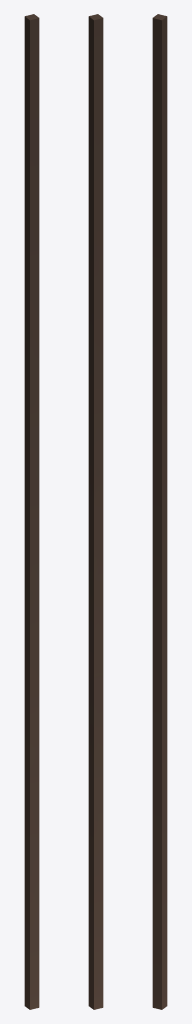
File: Kolonna.fbx
3 renders of one model, left to right at view 1: azimuth 30°, elevation 25°; view 2: azimuth 210°, elevation 25°; view 3: azimuth 330°, elevation 25°, orthographic.
Parts seen in each view (by area): view 1: Kolonna; view 2: Kolonna; view 3: Kolonna.
Part boxes in pixels (x1,y1,x2,y2): Kolonna: [24, 14, 39, 1009]; Kolonna: [88, 14, 103, 1009]; Kolonna: [152, 14, 167, 1009].
Bounding box in the file's own units: 0.2 × 20 × 0.2.
1 material, 1 textured.
